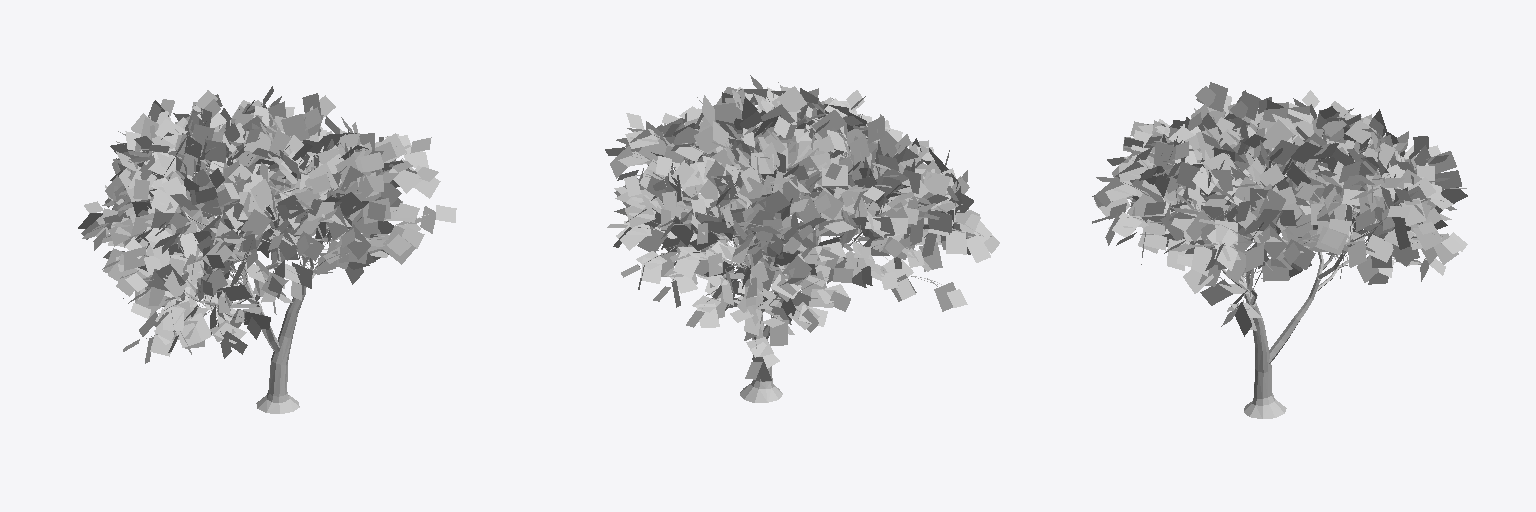
Rendered from tree.obj.
The picture shows the model from 3 angles: view 1: azimuth 30°, elevation 25°; view 2: azimuth 150°, elevation 25°; view 3: azimuth 270°, elevation 25°; orthographic projection.
Visible parts, largest first — view 1: WC_Hornbeam_01; view 2: WC_Hornbeam_01; view 3: WC_Hornbeam_01.
Boxes of the visible parts, x1=… form: WC_Hornbeam_01: x1=78, y1=86, x2=456, y2=413; WC_Hornbeam_01: x1=605, y1=75, x2=999, y2=402; WC_Hornbeam_01: x1=1092, y1=82, x2=1467, y2=418.
Bounding box in the file's own units: 360 × 286 × 332.